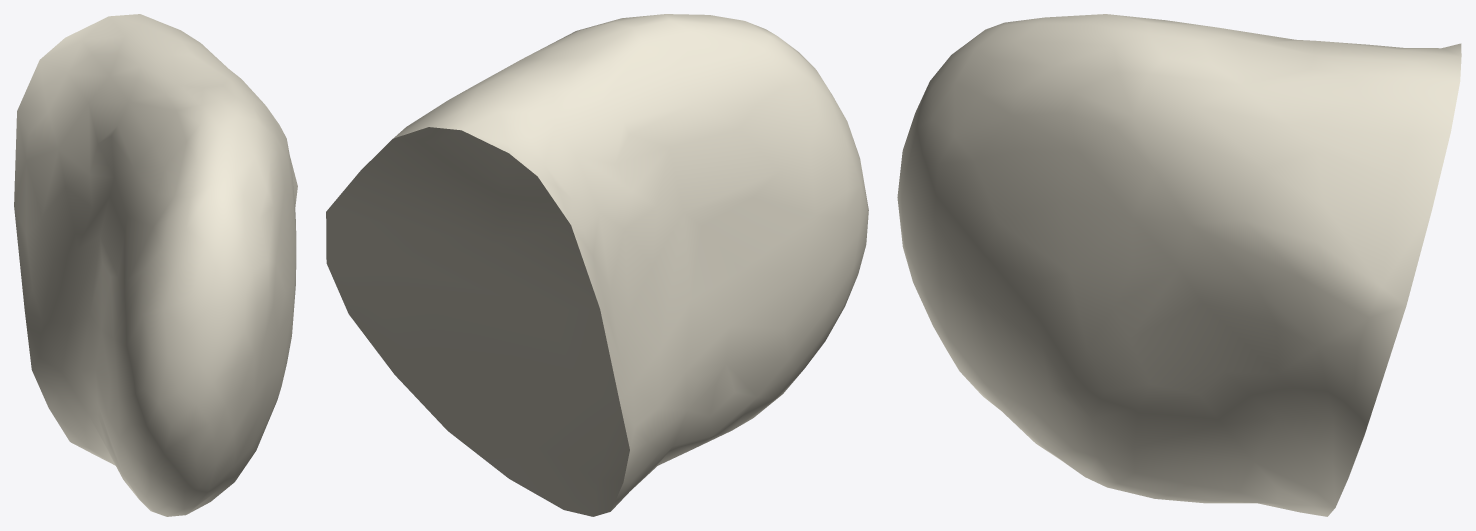
The model's file is fma39989_mm1885.glb.
The picture shows the model from 3 angles, left to right: view 1: azimuth 30°, elevation 25°; view 2: azimuth 150°, elevation 25°; view 3: azimuth 270°, elevation 25°; orthographic projection. The views are drawn at different scales.
Parts seen in each view (by area): view 1: FMA39989_MM1885; view 2: FMA39989_MM1885; view 3: FMA39989_MM1885.
Part boxes in pixels (x1,y1,x2,y2): FMA39989_MM1885: (14,14,297,516); FMA39989_MM1885: (326,14,868,516); FMA39989_MM1885: (897,14,1461,516).
Size of the model in its own units: 0.00626 by 0.00711 by 0.00743.
